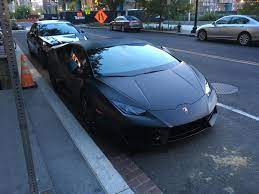Lamborghini: (55, 39, 218, 137)
